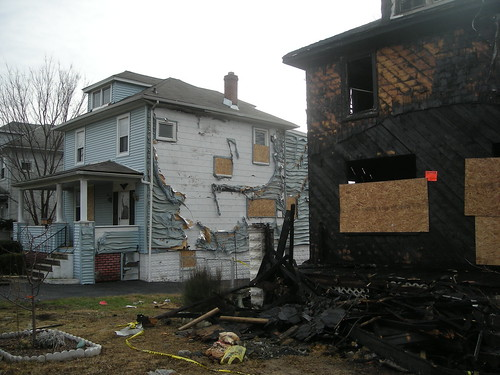building: (240, 1, 500, 352), (82, 91, 299, 283)
sky: (2, 1, 352, 106)
tree: (1, 66, 100, 341)
